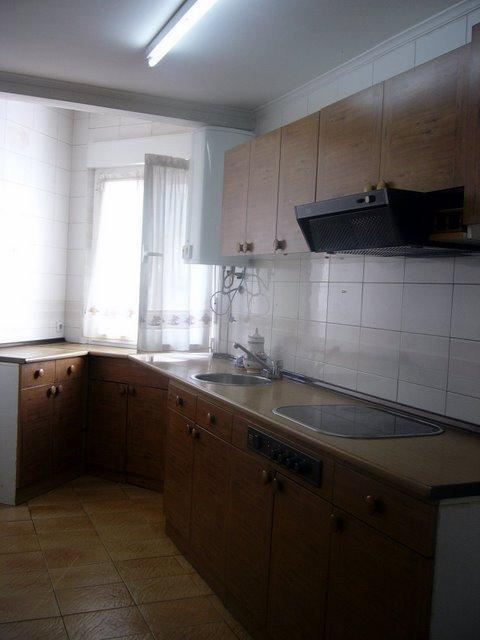Electrodomestico: (247, 396, 446, 466)
Lavaplatos: (194, 336, 292, 396)
